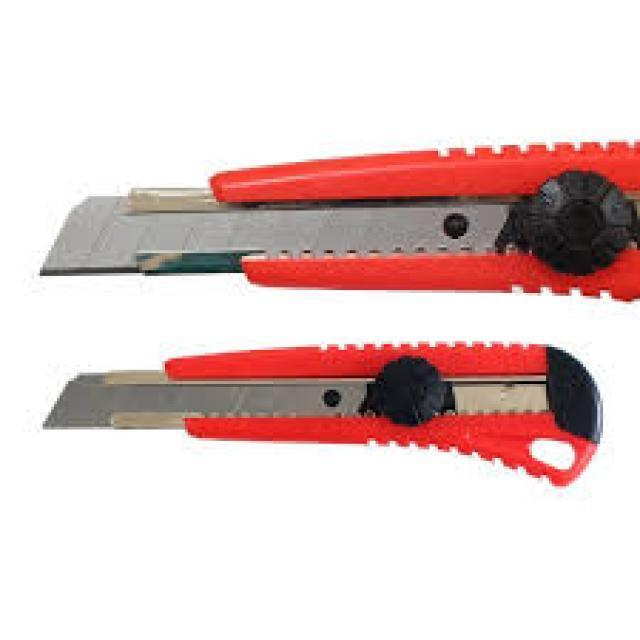cutter: (37, 136, 640, 306), (38, 344, 614, 510)
